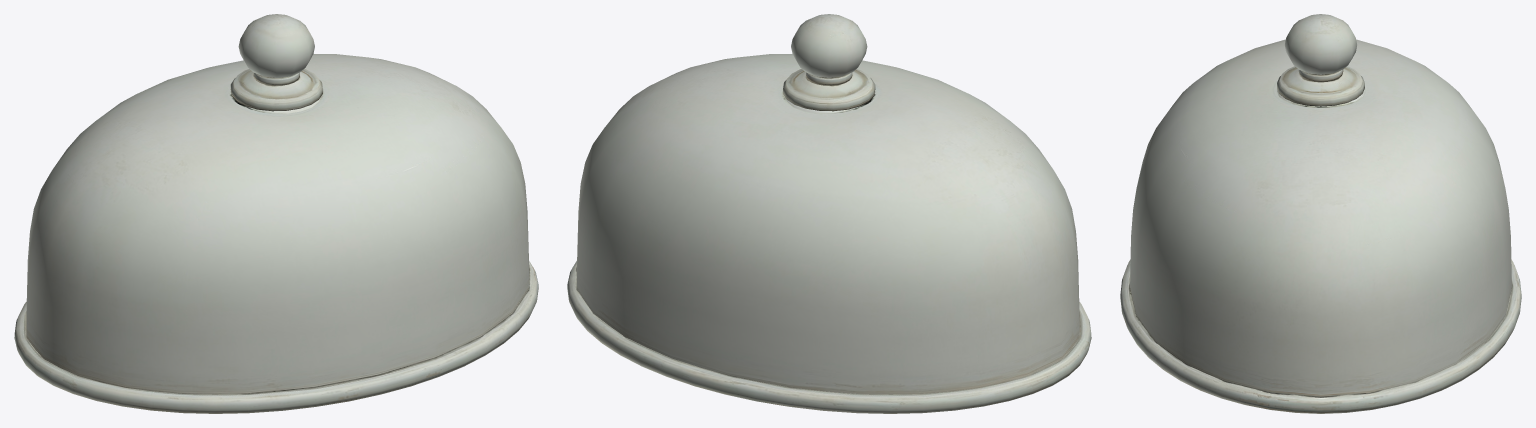
Rendered from P45_glass_food_cover_Runtime_1k.glb.
The picture shows the model from 3 angles, left to right: view 1: azimuth 30°, elevation 25°; view 2: azimuth 150°, elevation 25°; view 3: azimuth 270°, elevation 25°; orthographic projection. The views are drawn at different scales.
Parts seen in each view (by area): view 1: tripo_node_6ab2b6b1; view 2: tripo_node_6ab2b6b1; view 3: tripo_node_6ab2b6b1.
Part boxes in pixels (x1,y1,x2,y2): tripo_node_6ab2b6b1: (14,14,538,413); tripo_node_6ab2b6b1: (567,14,1091,413); tripo_node_6ab2b6b1: (1120,14,1521,413).
Size of the model in its own units: 0.44 by 0.2642 by 0.3342.
1 material, 1 textured.
